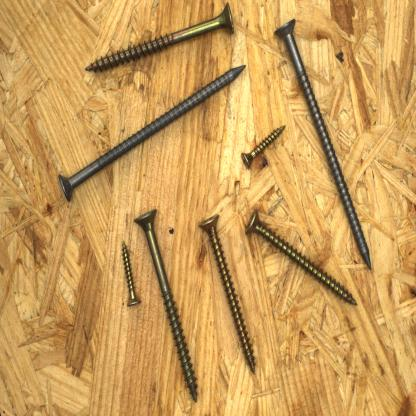screw: (53, 62, 252, 206), (267, 13, 376, 275), (131, 204, 202, 406), (81, 0, 239, 80), (241, 205, 361, 308), (197, 210, 260, 378), (238, 120, 291, 171), (118, 237, 144, 311)
